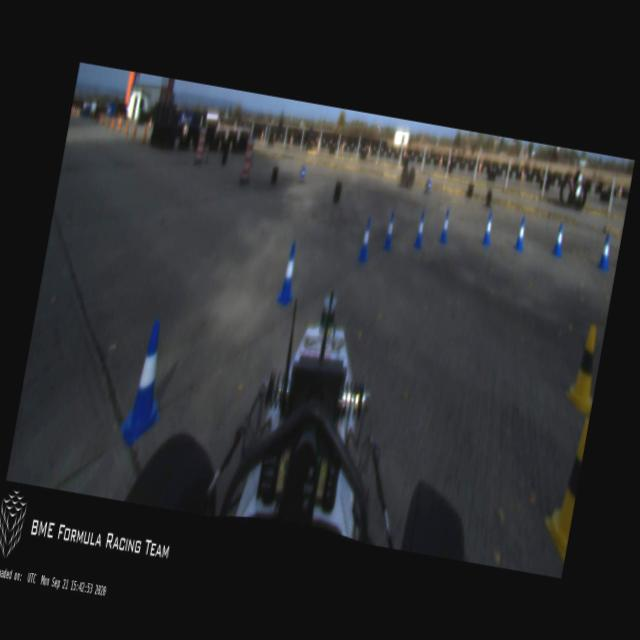blue_cone: (118, 317, 176, 451), (272, 236, 304, 312), (354, 213, 375, 264), (410, 206, 429, 254), (381, 207, 398, 251), (596, 232, 613, 270), (550, 220, 566, 258), (437, 207, 452, 245), (512, 216, 528, 251), (480, 210, 494, 245)
yellow_cone: (538, 414, 588, 562), (563, 320, 605, 418)
